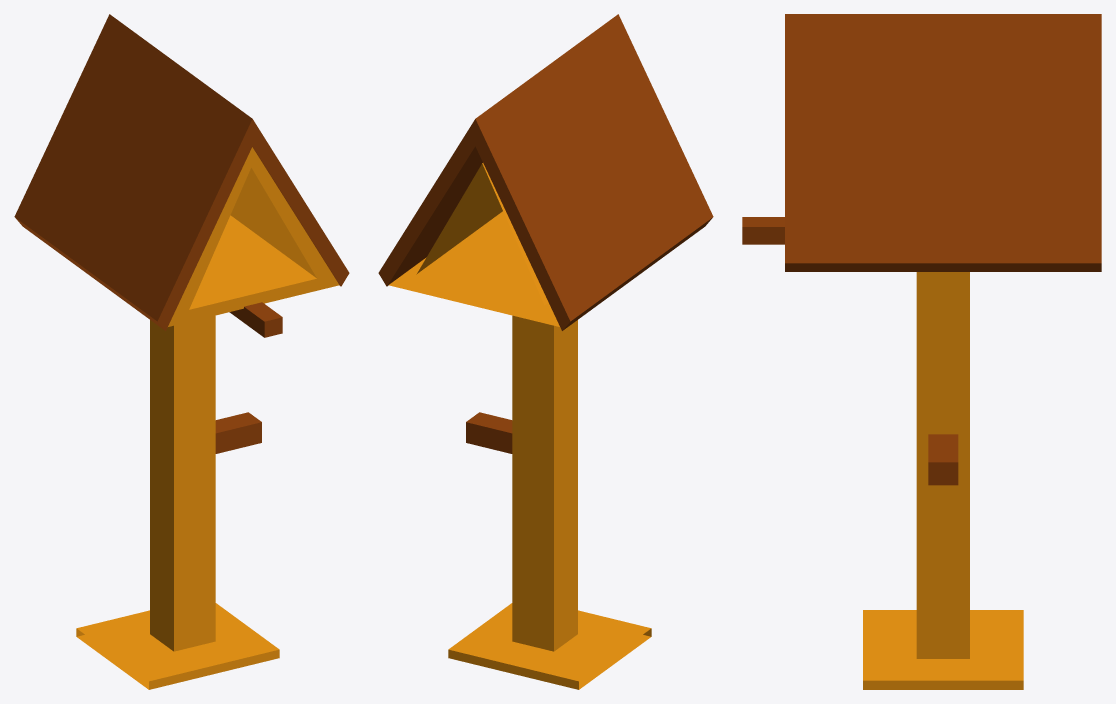
The model's file is bird_house_2.FBX.
3 renders of one model, left to right at view 1: azimuth 30°, elevation 25°; view 2: azimuth 150°, elevation 25°; view 3: azimuth 270°, elevation 25°, orthographic. The views are drawn at different scales.
Parts seen in each view (by area): view 1: bird_house_2; view 2: bird_house_2; view 3: bird_house_2.
Boxes of the visible parts, x1,y1,x2,y2 form: bird_house_2: (14, 14, 349, 689); bird_house_2: (378, 14, 713, 689); bird_house_2: (742, 14, 1101, 689).
Bounding box in the file's own units: 0.6813 × 1.97 × 0.9978.
1 material, 1 textured.
